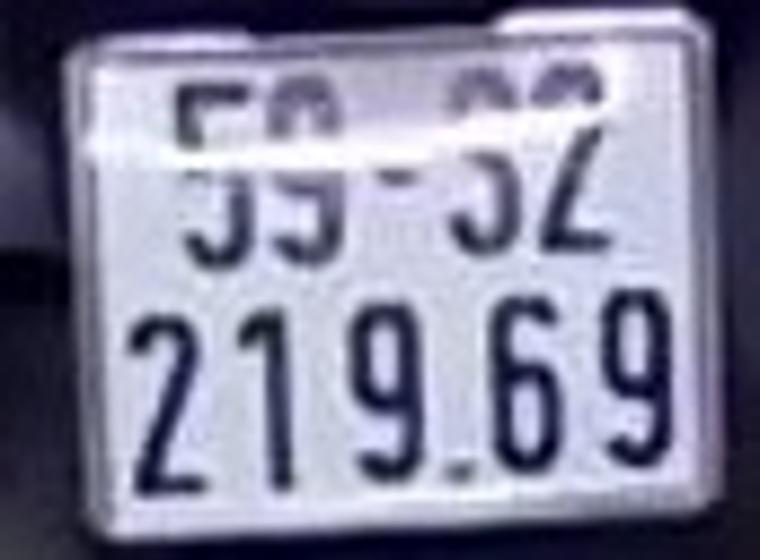-: (374, 160, 429, 196)
.: (441, 442, 481, 492)
1: (228, 299, 311, 501)
2: (110, 302, 219, 507), (530, 52, 624, 263)
5: (167, 78, 262, 279)
6: (477, 285, 573, 482)
9: (338, 294, 437, 493), (263, 75, 355, 284), (596, 278, 674, 473)
S: (434, 65, 532, 269)
